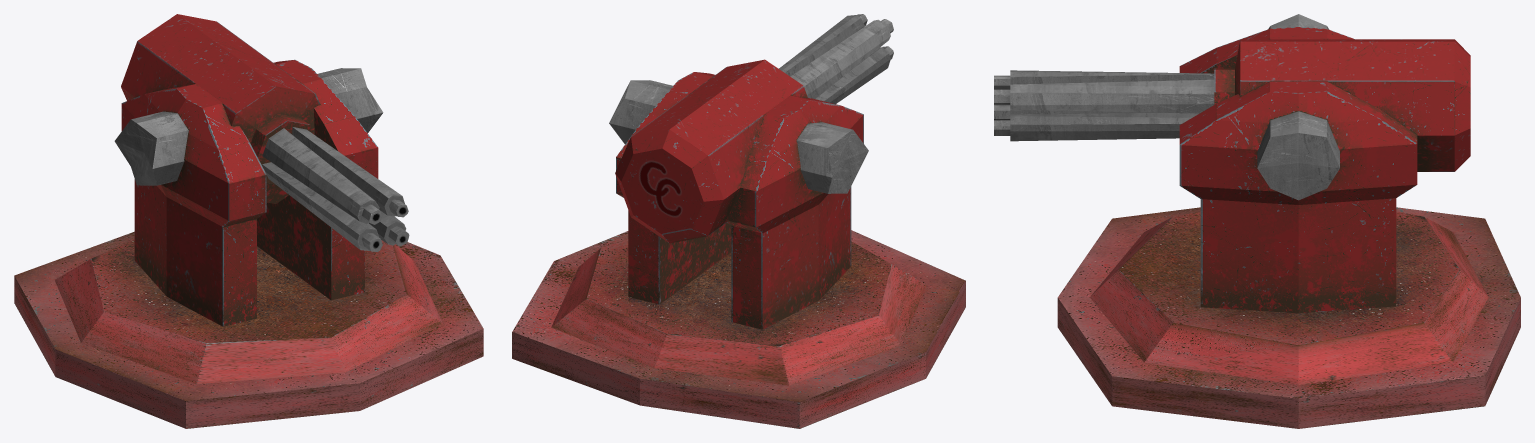
File: Turret.gltf
3 renders of one model, left to right at view 1: azimuth 30°, elevation 25°; view 2: azimuth 150°, elevation 25°; view 3: azimuth 270°, elevation 25°, orthographic. The views are drawn at different scales.
Visible parts, largest first — view 1: Base, Pivot, Cannon; view 2: Base, Pivot, Cannon; view 3: Base, Pivot, Cannon.
Part boxes in pixels (x1,y1,x2,y2): Base: [14, 231, 483, 428]; Pivot: [114, 59, 383, 326]; Cannon: [121, 14, 409, 251]; Base: [512, 230, 965, 428]; Pivot: [609, 72, 868, 329]; Cannon: [615, 14, 893, 243]; Base: [1057, 207, 1520, 428]; Pivot: [1179, 14, 1417, 313]; Cannon: [994, 39, 1470, 171].
Size of the model in its own units: 3.3 by 2.16 by 3.6.
Materials: 5 (5 with a texture image).
